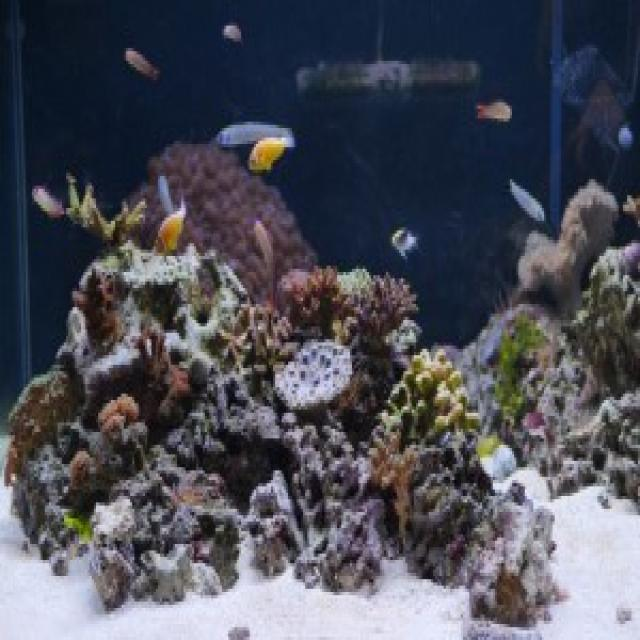Healthy: (129, 142, 315, 299), (496, 308, 639, 507), (253, 420, 383, 590), (69, 244, 165, 398), (519, 180, 618, 311), (468, 481, 558, 625), (248, 308, 351, 411), (167, 251, 246, 382), (379, 350, 479, 449), (283, 270, 417, 340), (579, 244, 639, 385), (71, 395, 146, 497)
